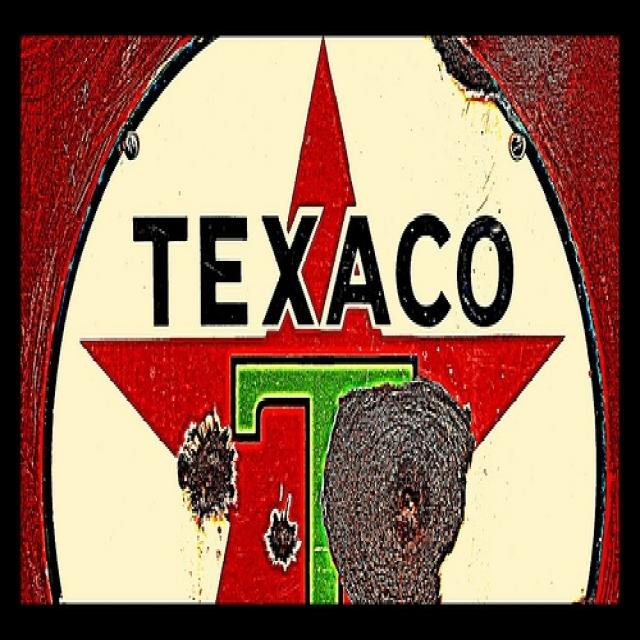texaco: (42, 32, 603, 617)
